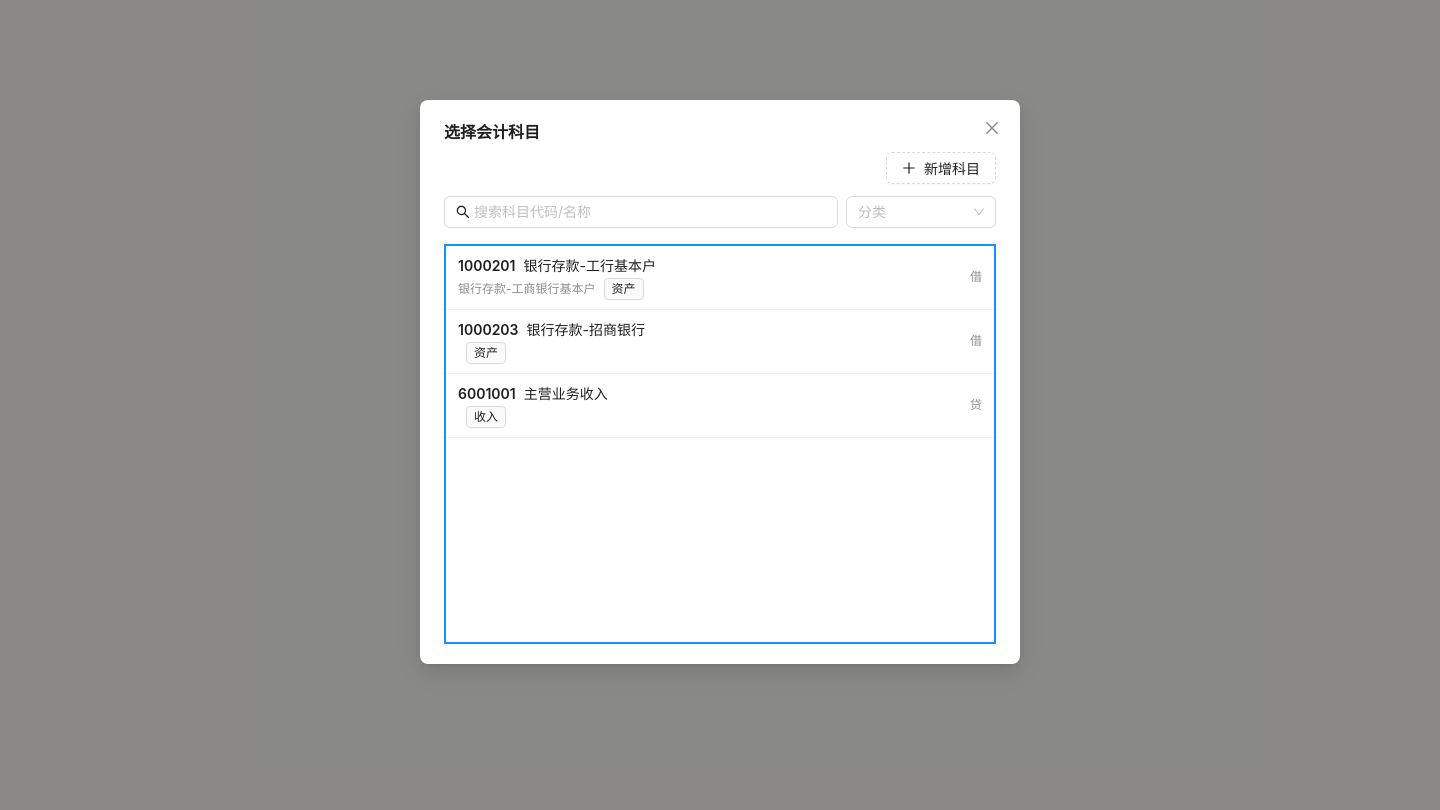
SubjectPickerModal › filters by search text
Type "银行存款" into the field with placeholder "搜索科目代码/名称" at coordinates (642, 212), box [474,201,810,223]
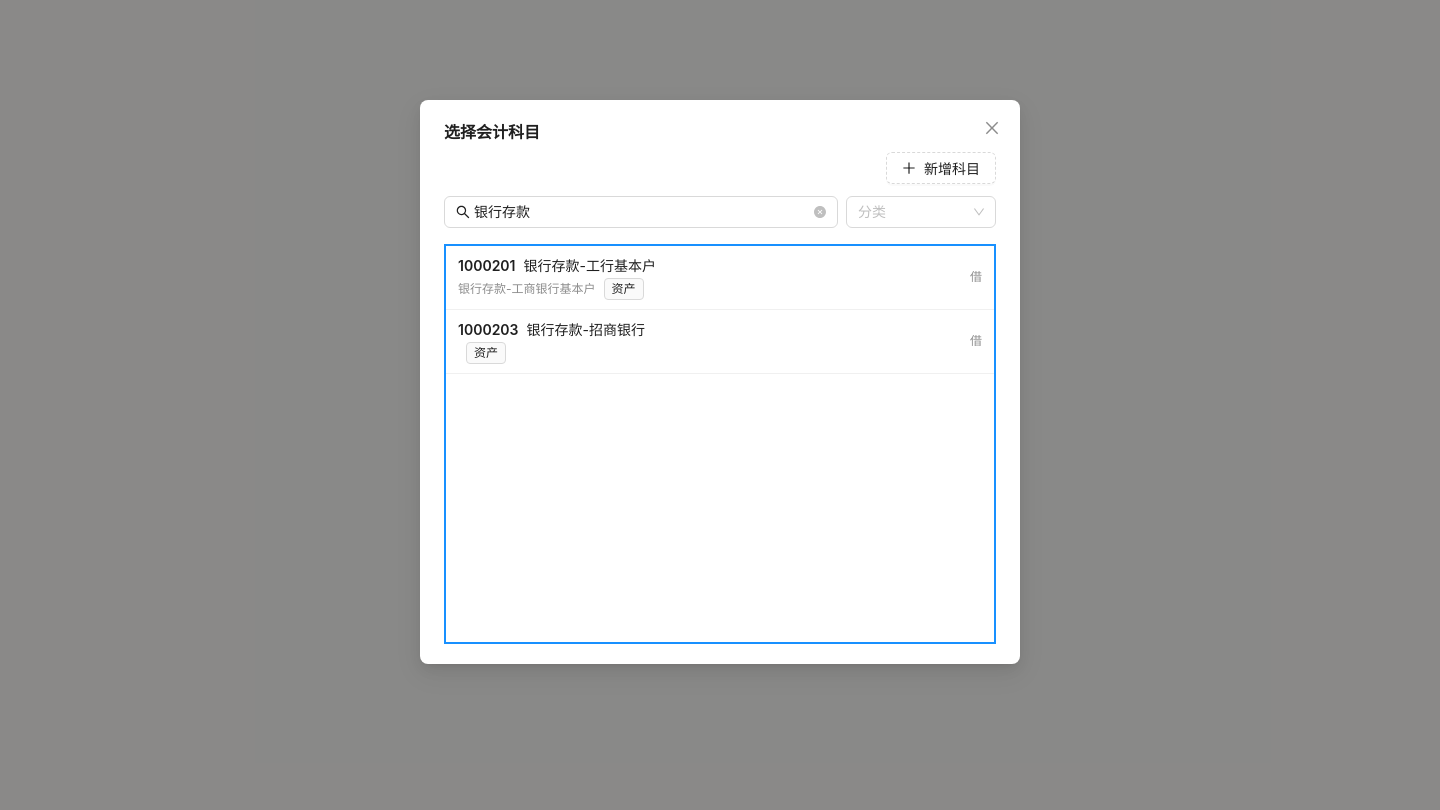
Expected: the text "银行存款-工行基本户" is shown, [524,255,656,277]
Expected: the text "主营业务收入" is gone
